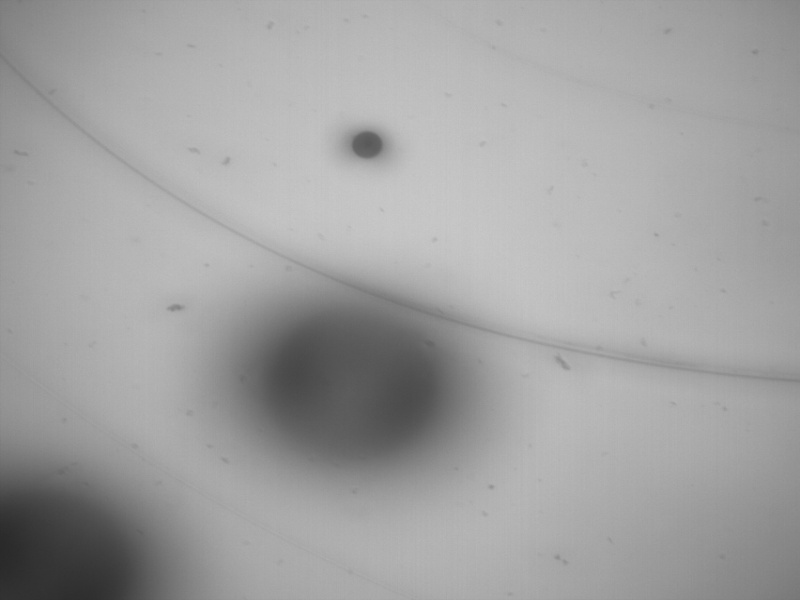bead: (269, 307, 441, 463), (1, 488, 157, 600), (352, 131, 383, 158)
